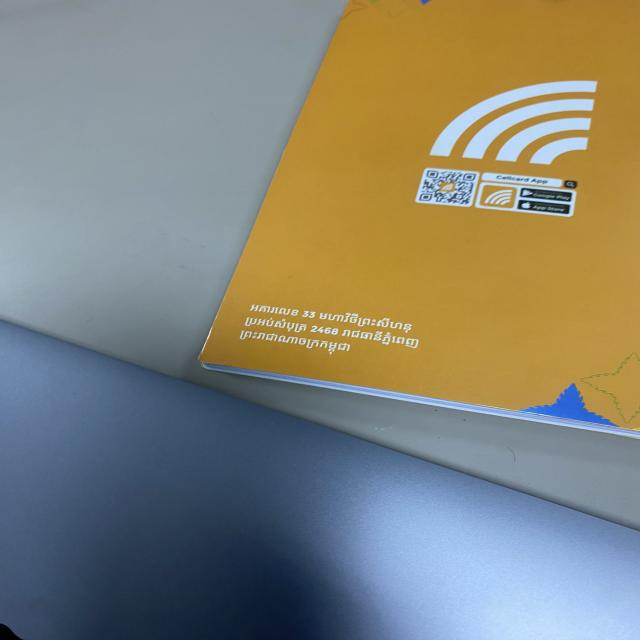676: (309, 322, 340, 338)
723: (301, 307, 317, 320)
Yolov11_80vkh: (235, 326, 357, 358), (317, 305, 417, 338), (341, 326, 423, 352), (242, 314, 309, 334), (247, 301, 301, 318)
